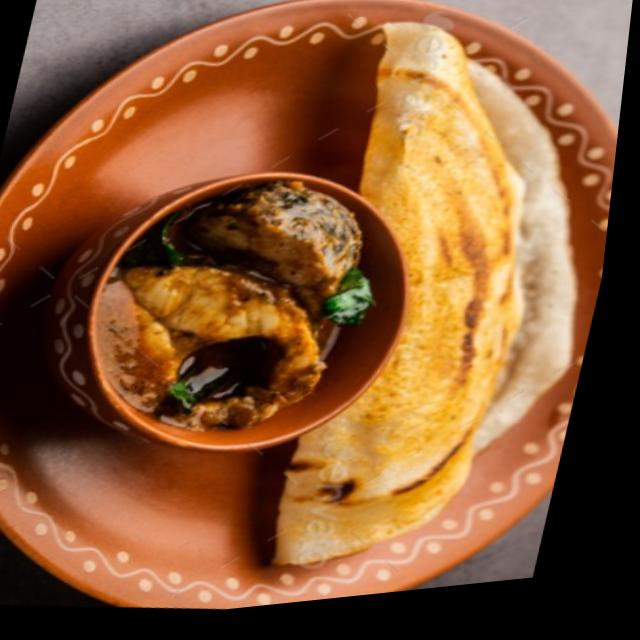DOSA: (276, 14, 575, 563)
FISH CURRY: (100, 176, 367, 427)
